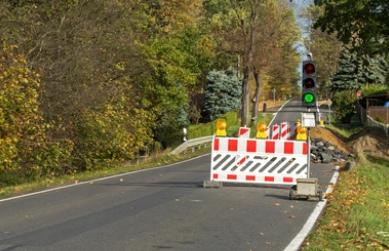green_light: (301, 61, 316, 107)
